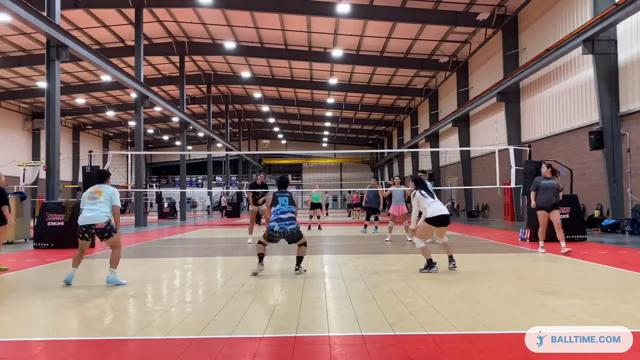ricezione: (246, 173, 311, 277)
